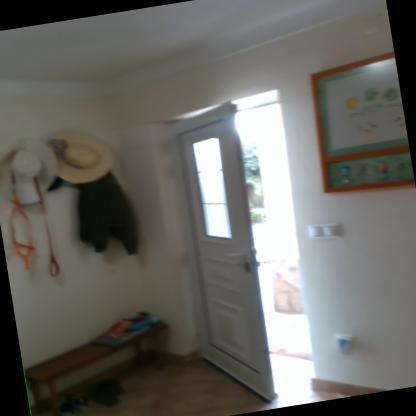semi: (145, 77, 330, 414)
